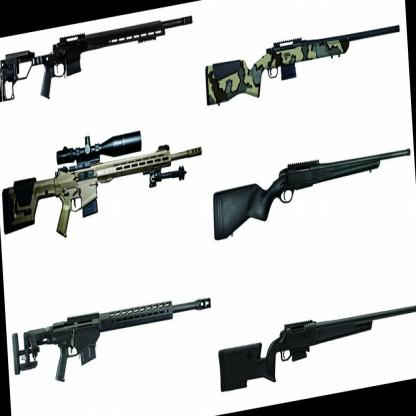rifle: (11, 282, 218, 395), (199, 13, 406, 126), (210, 132, 416, 245), (0, 130, 203, 242), (217, 287, 416, 400), (0, 5, 196, 118)
